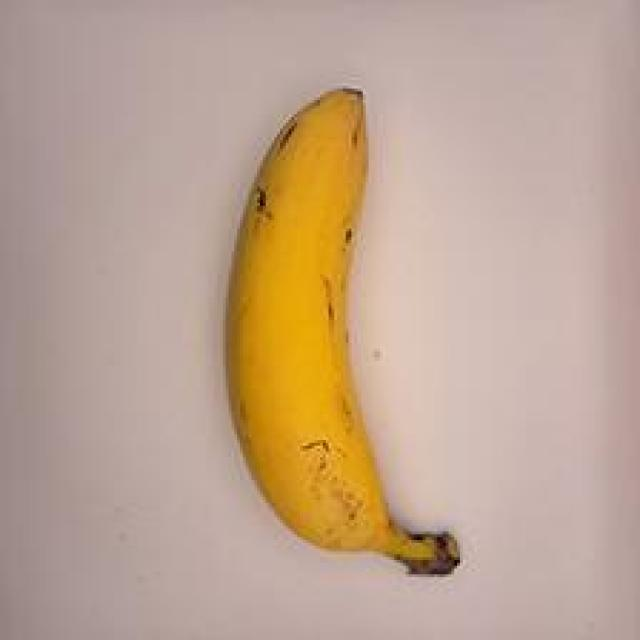Ripe: (198, 57, 477, 613)
